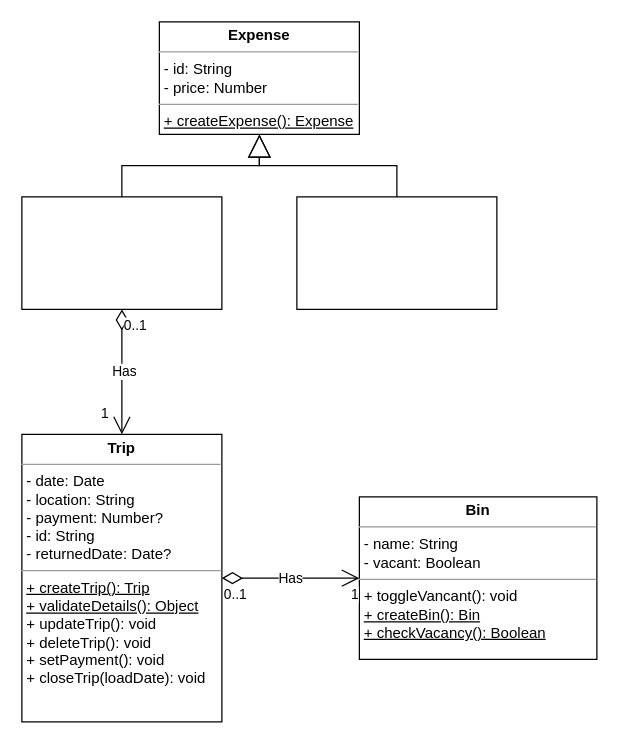
This 619x744 diagram has some shape labels left out. Here are the shapes that lost their labels. From the top down, the centre of each, then its label:
[121,252]: TripExpense
[396,252]: GeneralExpense - description: String - receiptNo: String
